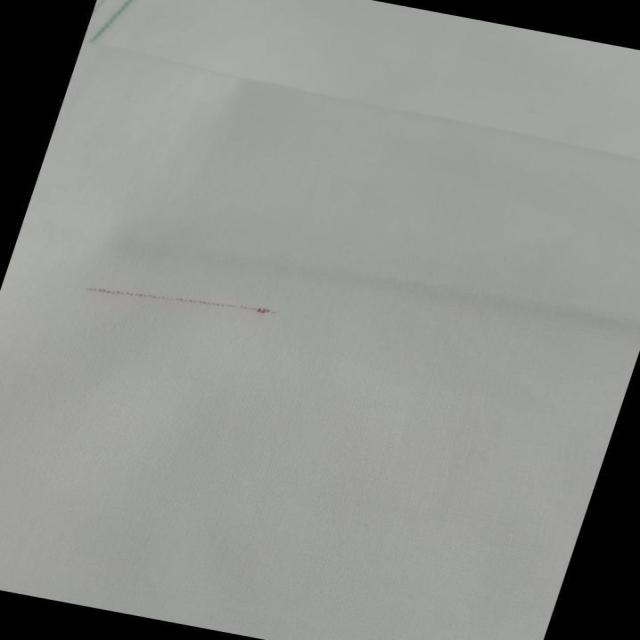contamination: (74, 264, 290, 336)
